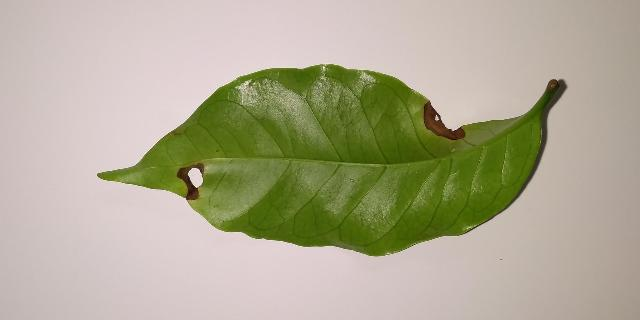rust: (423, 101, 466, 140), (178, 163, 203, 200)
